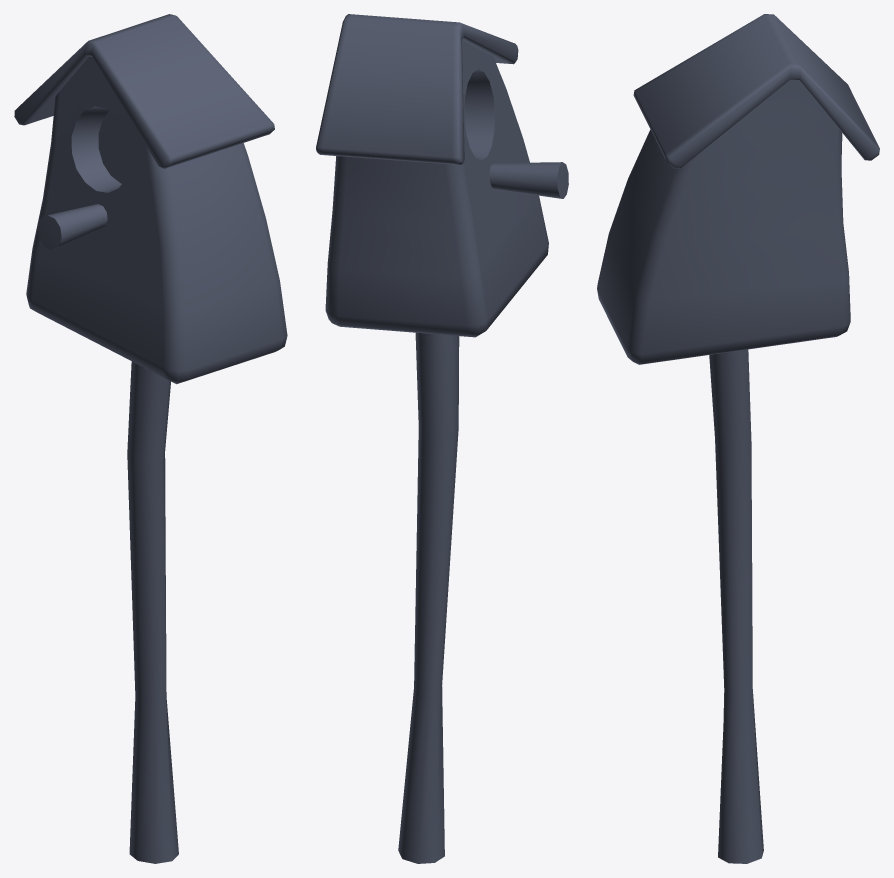
Rendered from Birdhouse.FBX.
3 renders of one model, left to right at view 1: azimuth 30°, elevation 25°; view 2: azimuth 150°, elevation 25°; view 3: azimuth 270°, elevation 25°, orthographic. The views are drawn at different scales.
Parts seen in each view (by area): view 1: Birdhouse; view 2: Birdhouse; view 3: Birdhouse.
Boxes of the visible parts, left/top/right/bottom form: Birdhouse: left=14, top=14, right=287, bottom=863; Birdhouse: left=316, top=14, right=568, bottom=863; Birdhouse: left=597, top=14, right=879, bottom=863.
Bounding box in the file's own units: 47.12 × 176 × 55.31.
